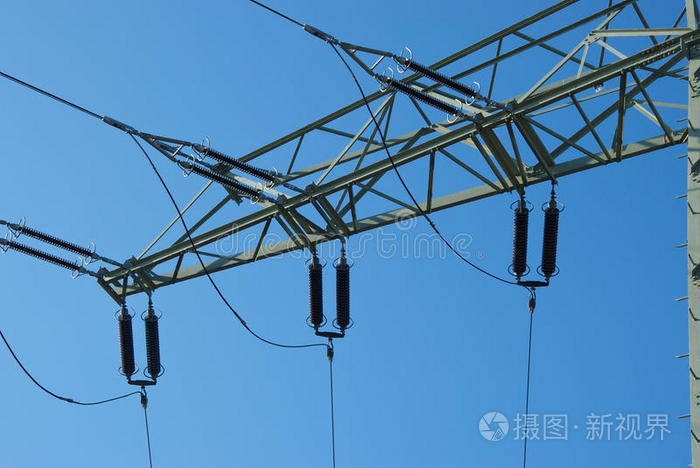insulator: (405, 55, 477, 99), (205, 144, 276, 182), (388, 79, 457, 115), (15, 225, 90, 257), (191, 164, 258, 197), (7, 241, 81, 270), (330, 261, 354, 327), (540, 208, 562, 274), (510, 209, 532, 274), (304, 261, 325, 325), (117, 314, 138, 376), (142, 313, 162, 374)
